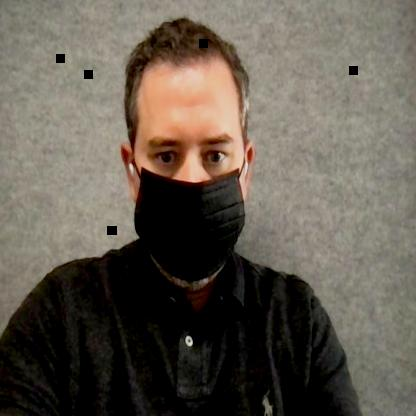mask: (124, 14, 255, 285)
